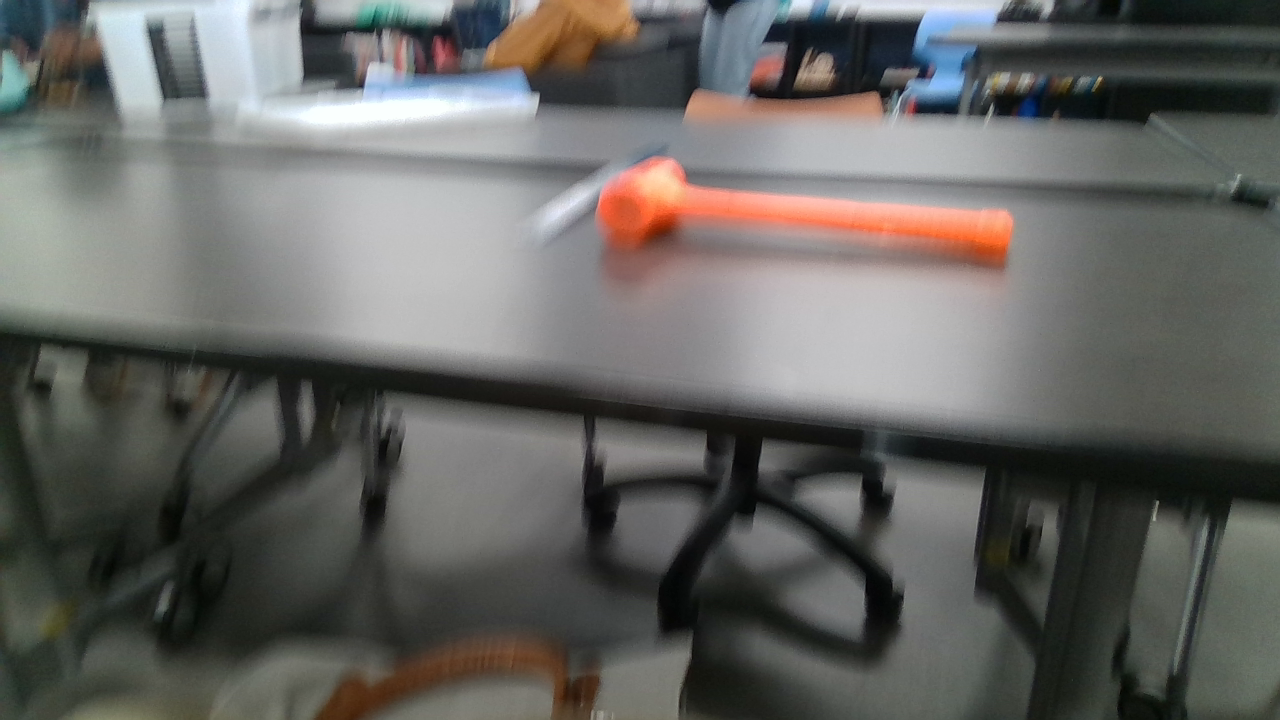Orange Hammer: (598, 155, 1009, 263)
